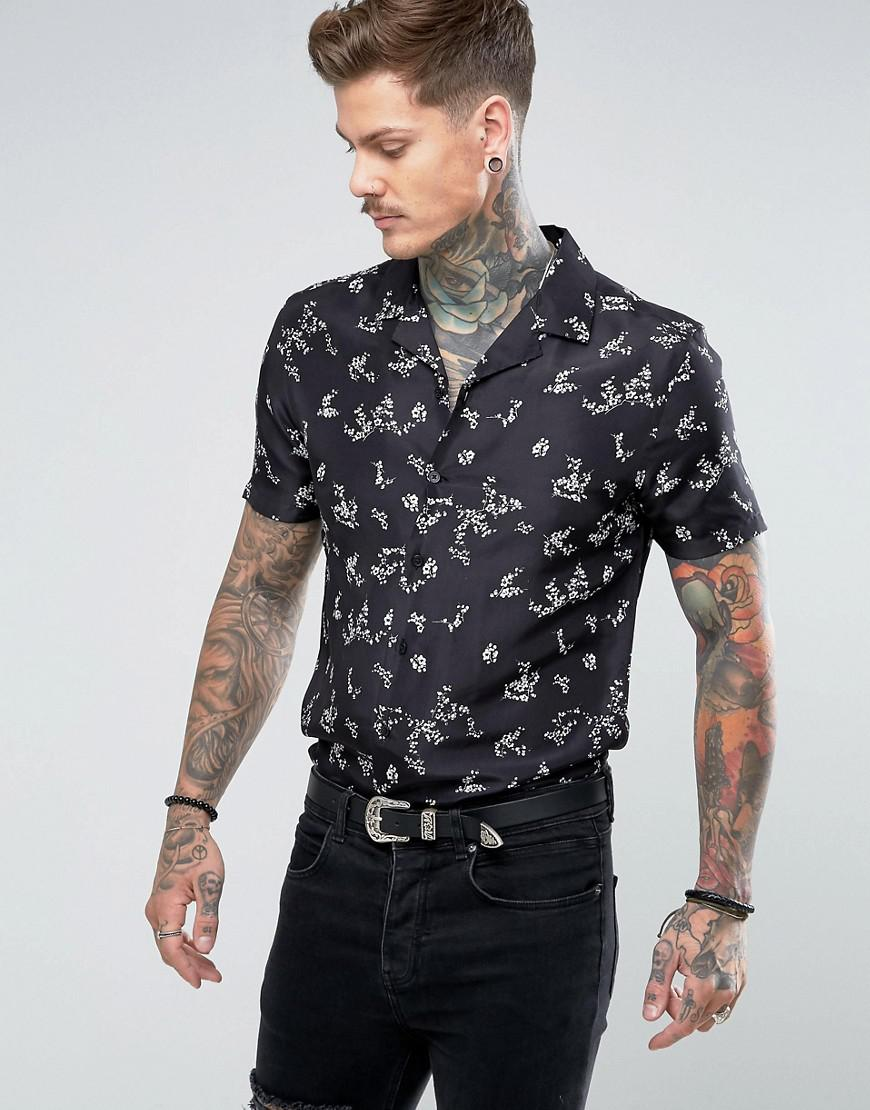teeshirt: (232, 247, 762, 810)
